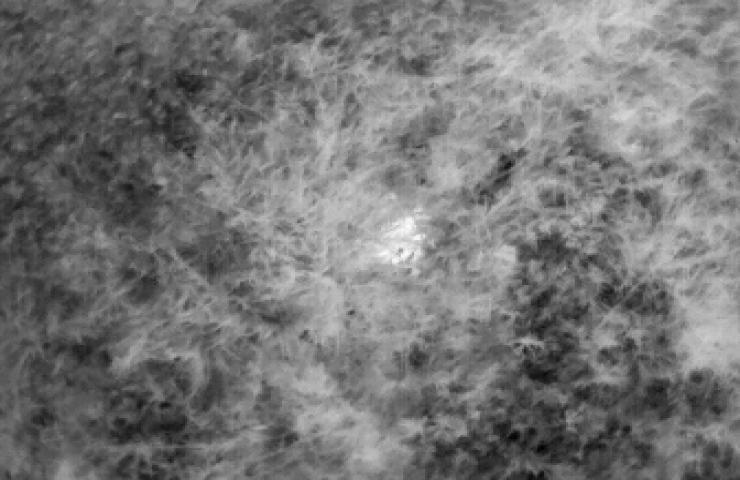landmines: (376, 212, 433, 272)
